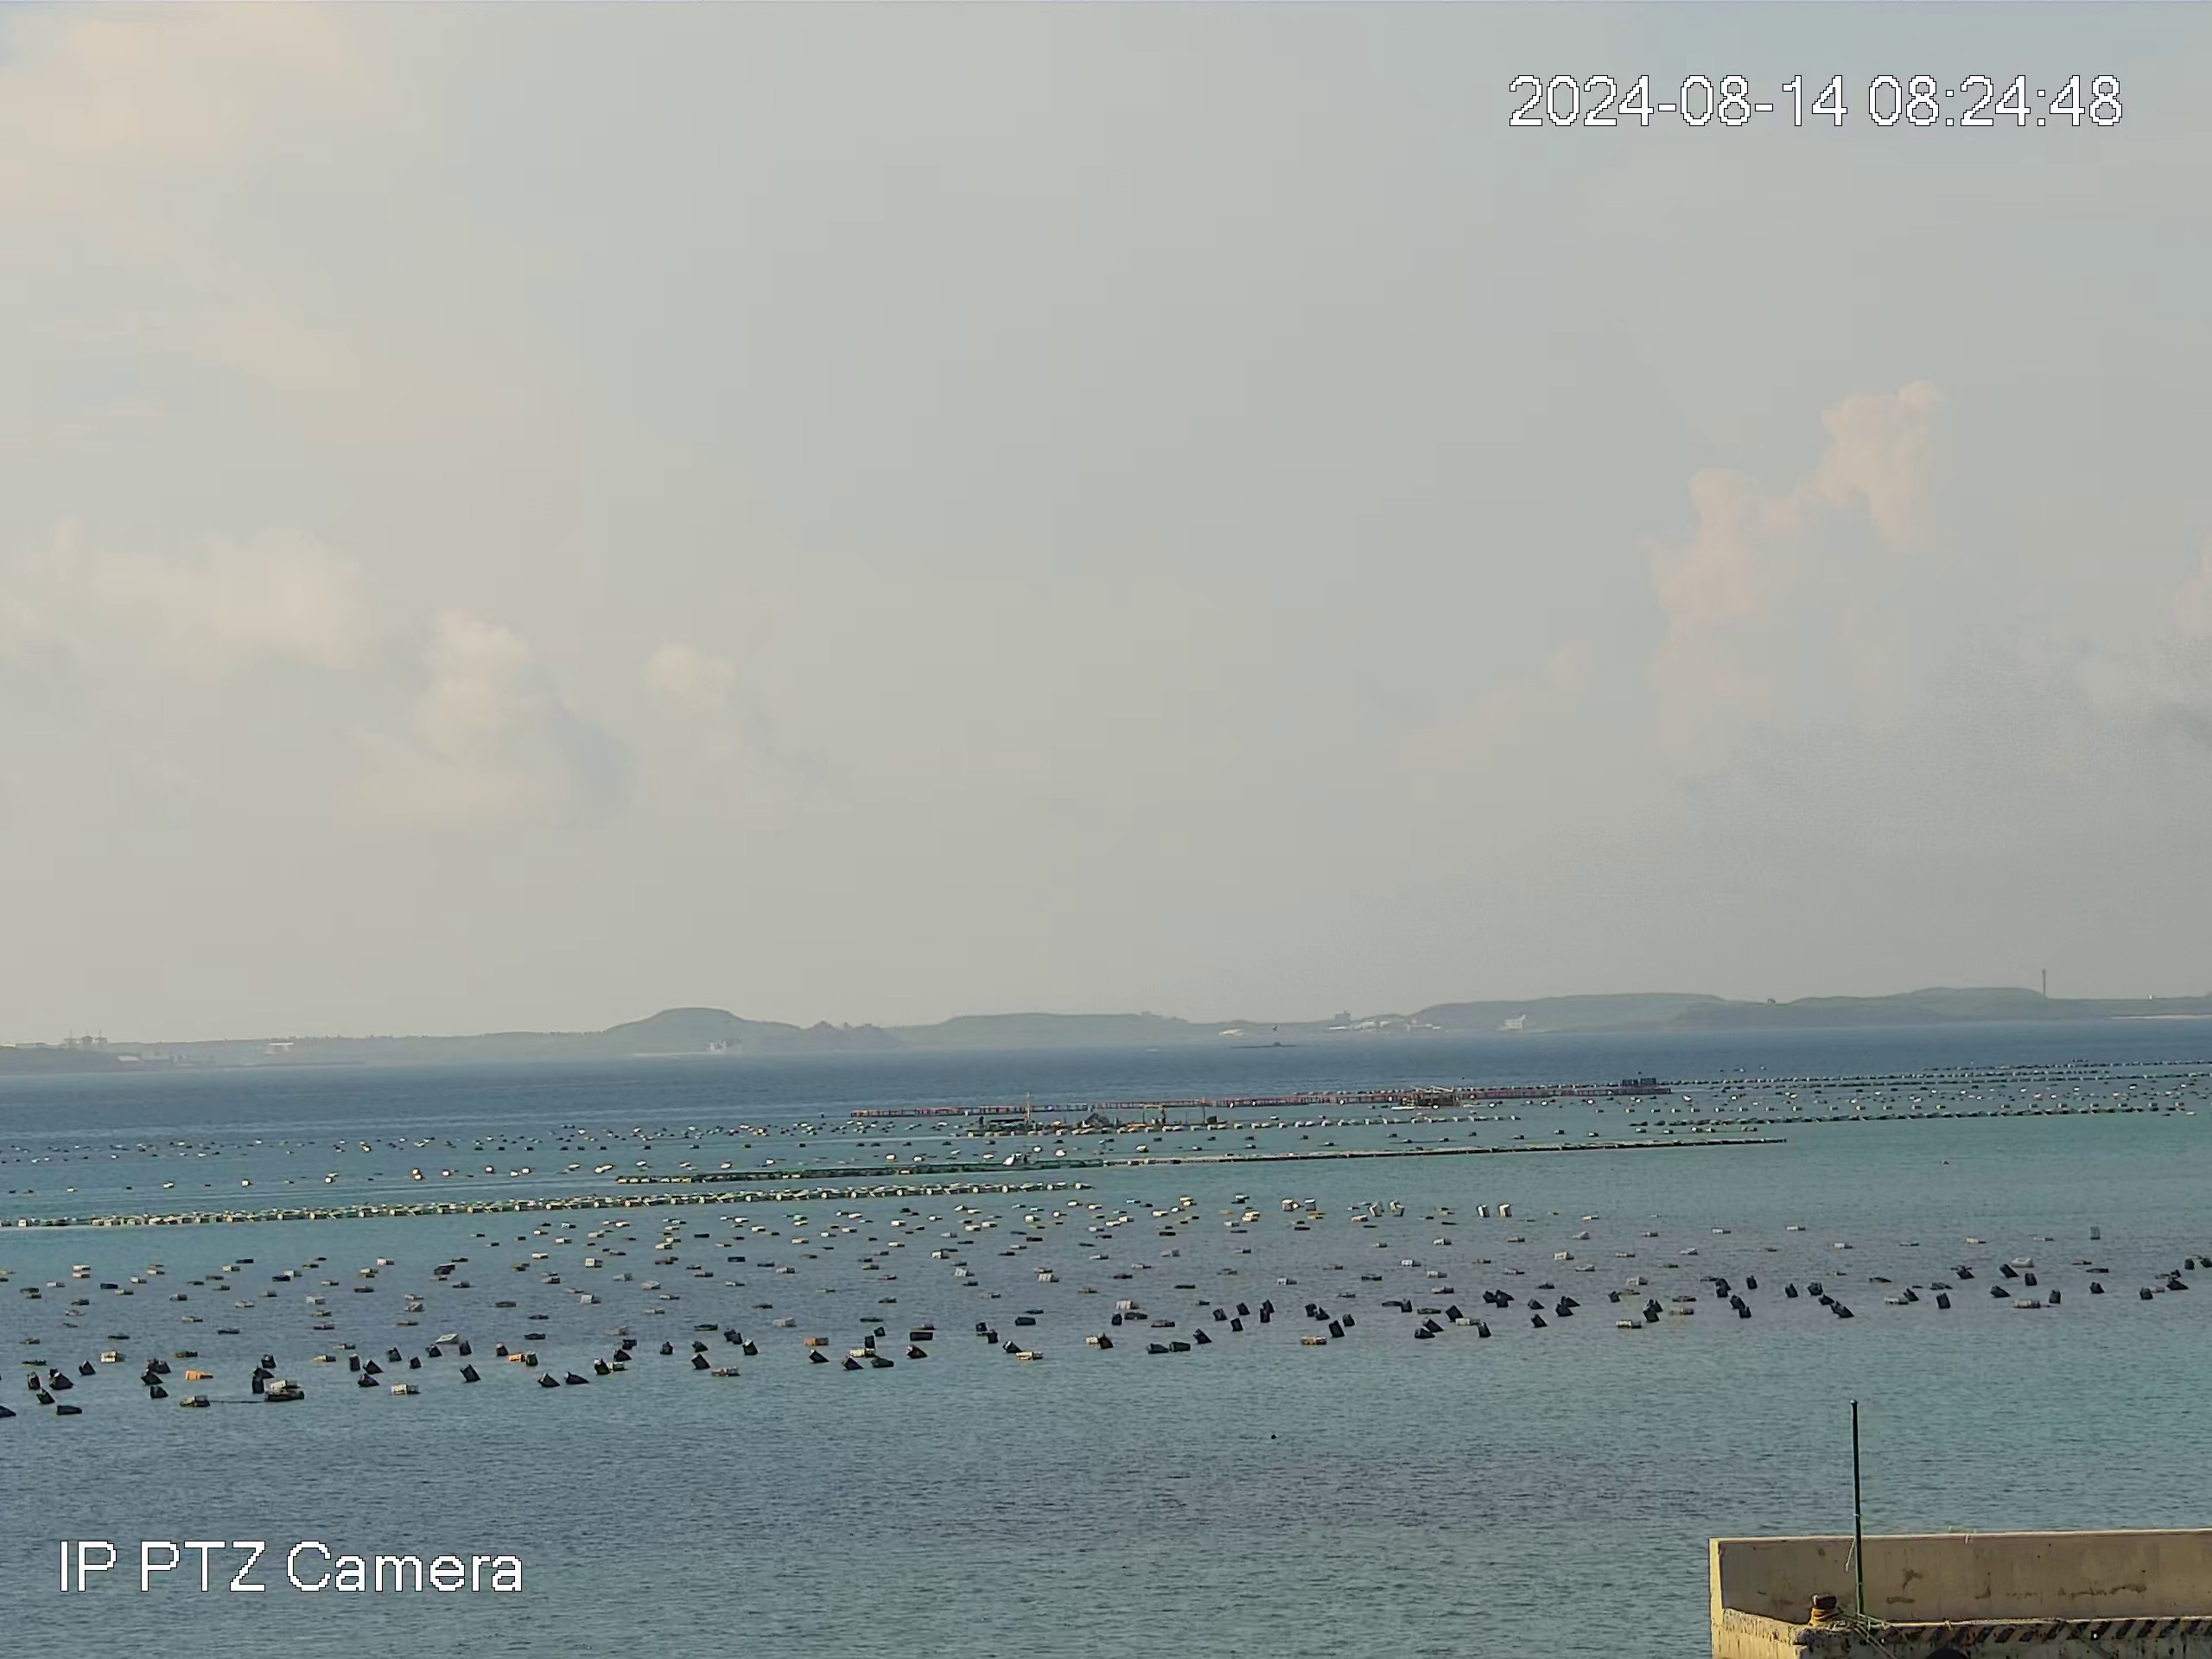boat: (1400, 1087, 1462, 1104)
